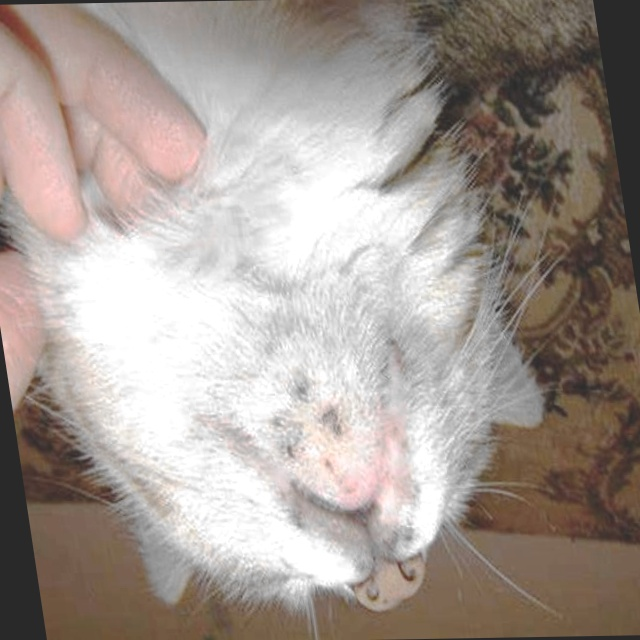acne: (256, 376, 347, 457)
